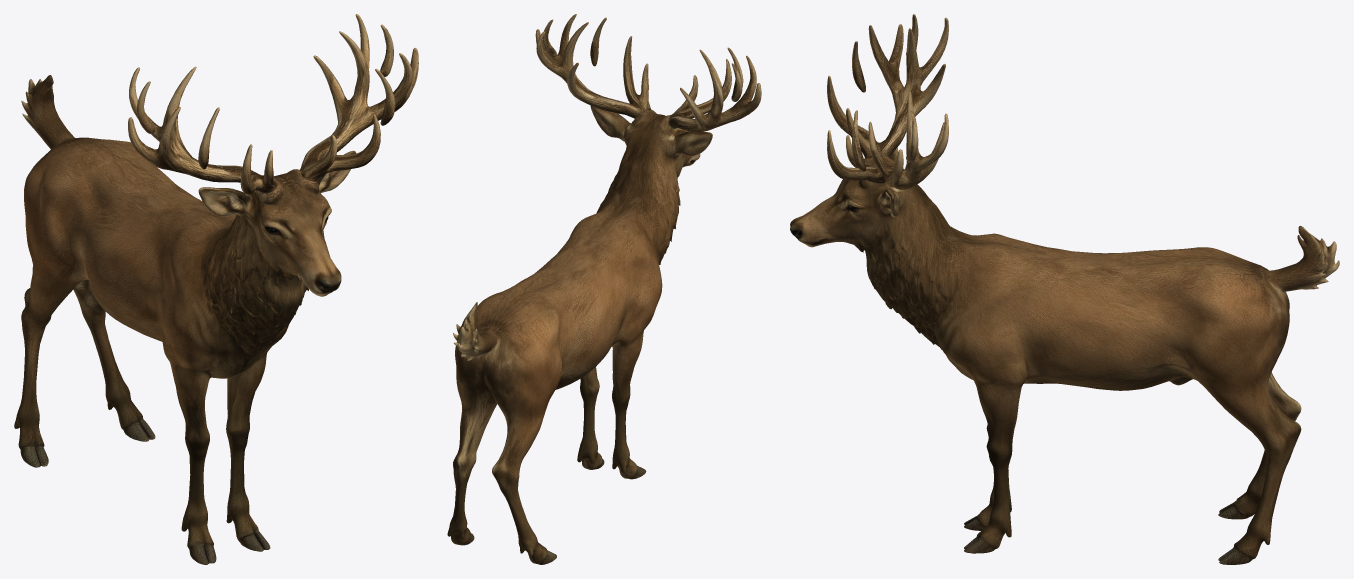
File: deer__stag.glb
3 views of the same model, side by side, from view 1: azimuth 30°, elevation 25°; view 2: azimuth 150°, elevation 25°; view 3: azimuth 270°, elevation 25° (orthographic). The views are drawn at different scales.
Bounding box in the file's own units: 1.04 × 1.82 × 1.9.
Materials: 1 (1 with a texture image).
